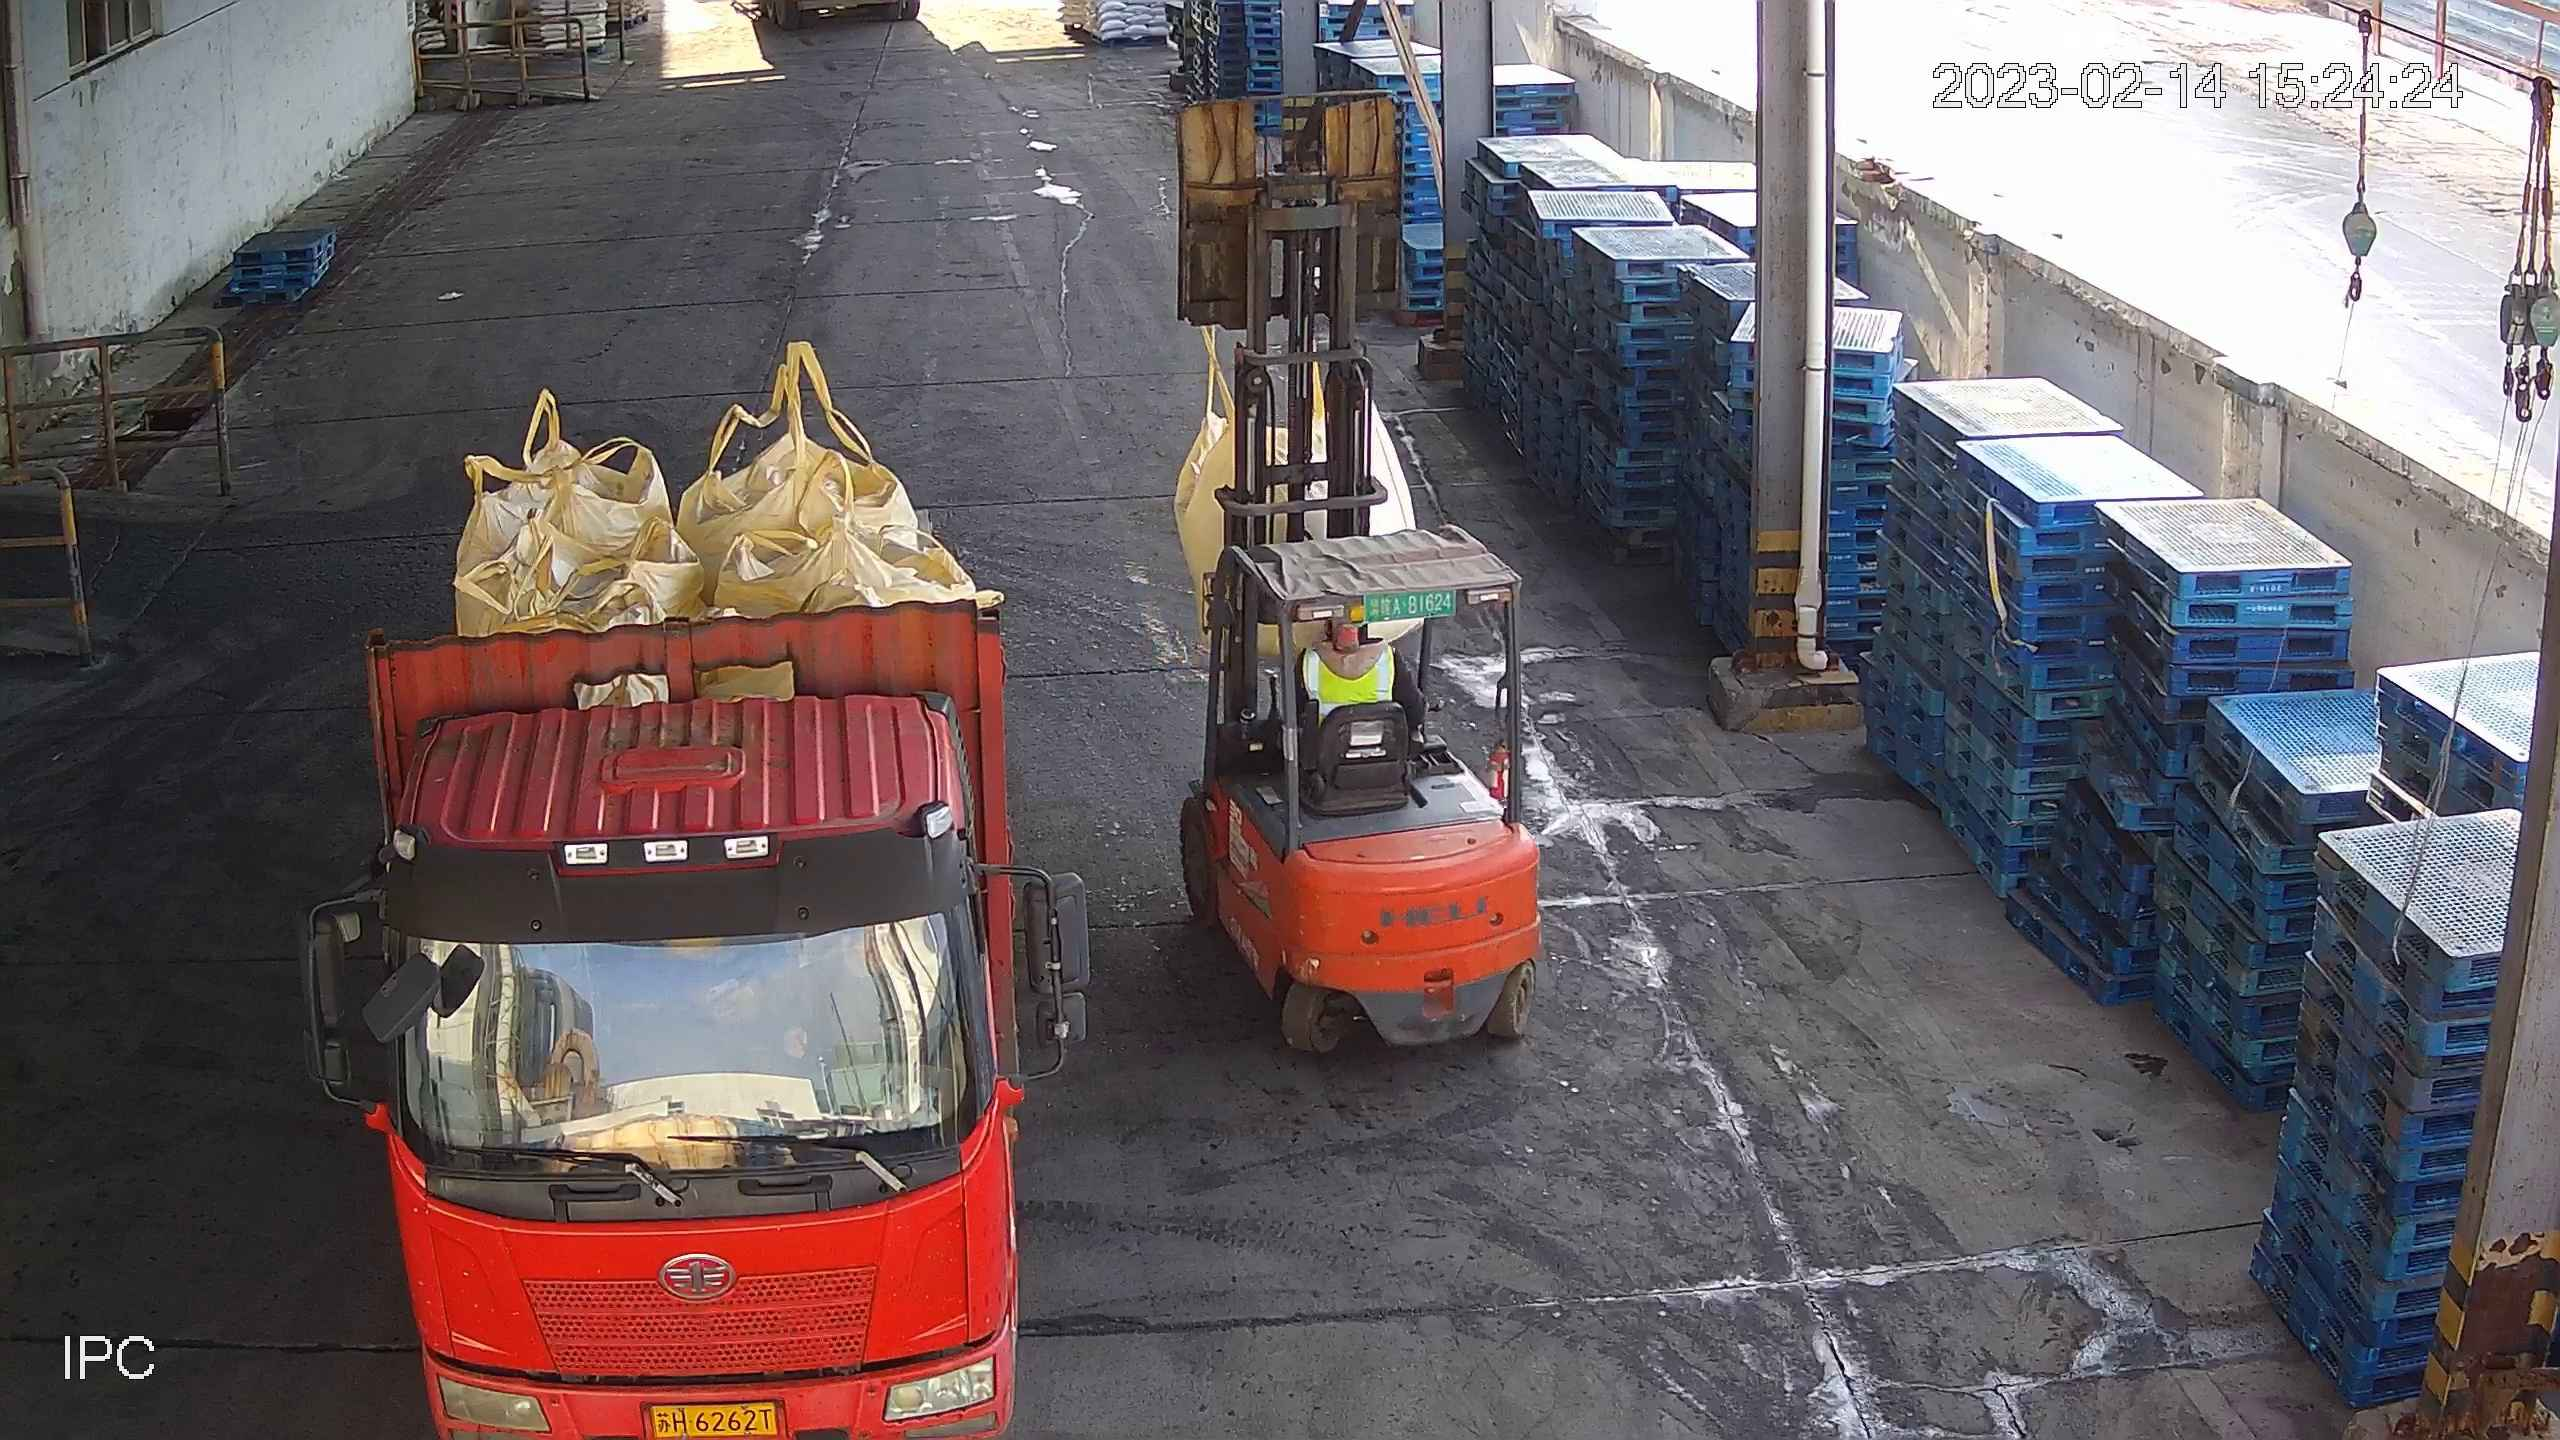truck: (295, 482, 1095, 1440)
